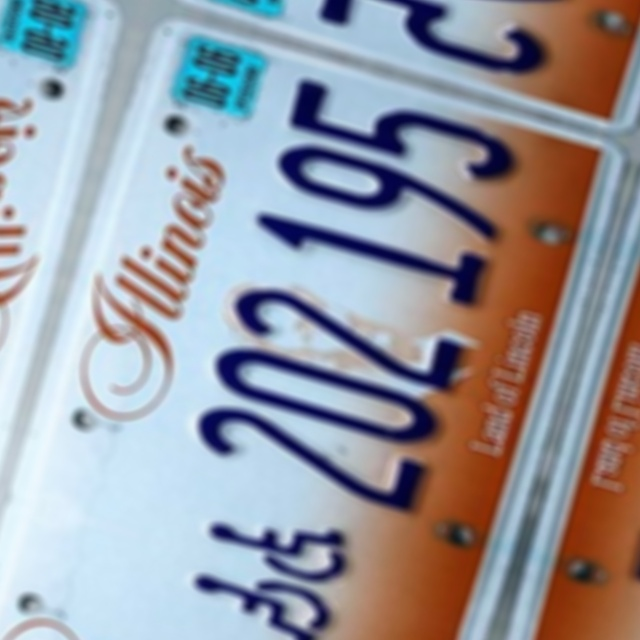ISA: (198, 492, 360, 593), (179, 556, 341, 640)
